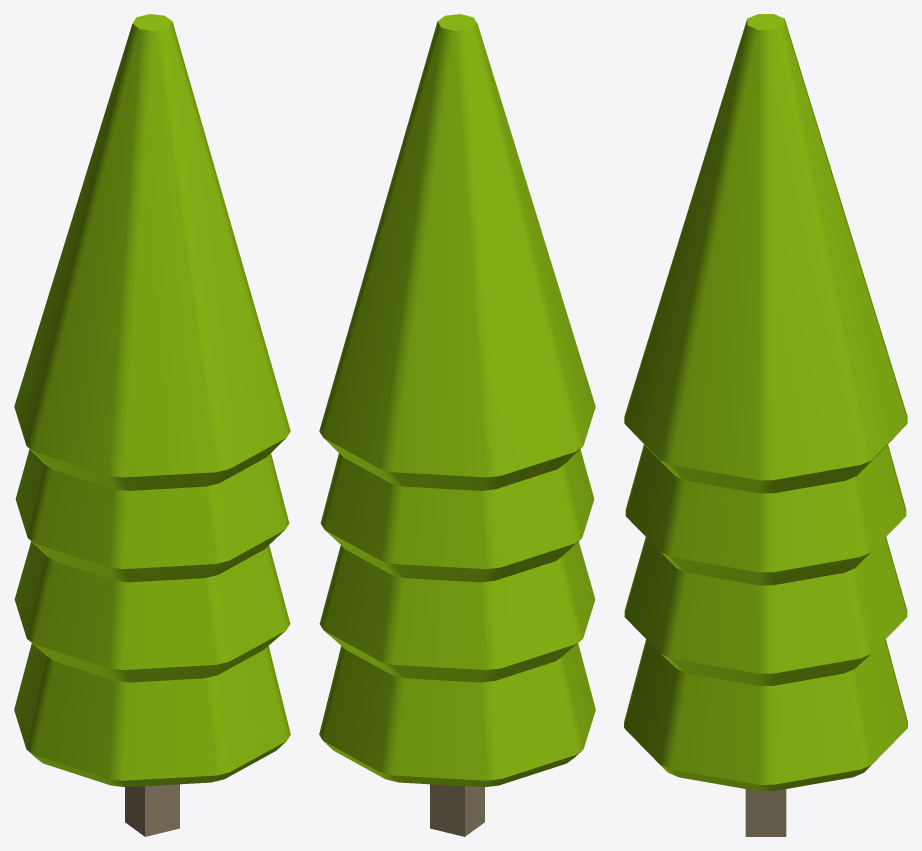
Rendered from pine_1_bevel.fbx.
3 views of the same model, side by side, from view 1: azimuth 30°, elevation 25°; view 2: azimuth 150°, elevation 25°; view 3: azimuth 270°, elevation 25° (orthographic).
Visible parts, largest first — view 1: pine_1_bevel; view 2: pine_1_bevel; view 3: pine_1_bevel.
Part boxes in pixels (left/top/right/bottom): pine_1_bevel: left=14, top=14, right=290, bottom=836; pine_1_bevel: left=319, top=14, right=595, bottom=836; pine_1_bevel: left=624, top=14, right=907, bottom=836.
Size of the model in its own units: 92.38 by 290 by 92.38.
